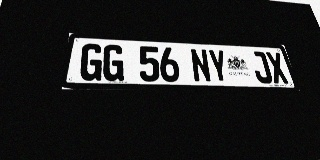5: (139, 46, 160, 82)
6: (159, 47, 180, 82)
G: (79, 43, 103, 81), (102, 44, 124, 81)
J: (249, 51, 274, 83)
N: (189, 48, 212, 82)
X: (265, 52, 290, 84)
Y: (207, 49, 230, 83)
